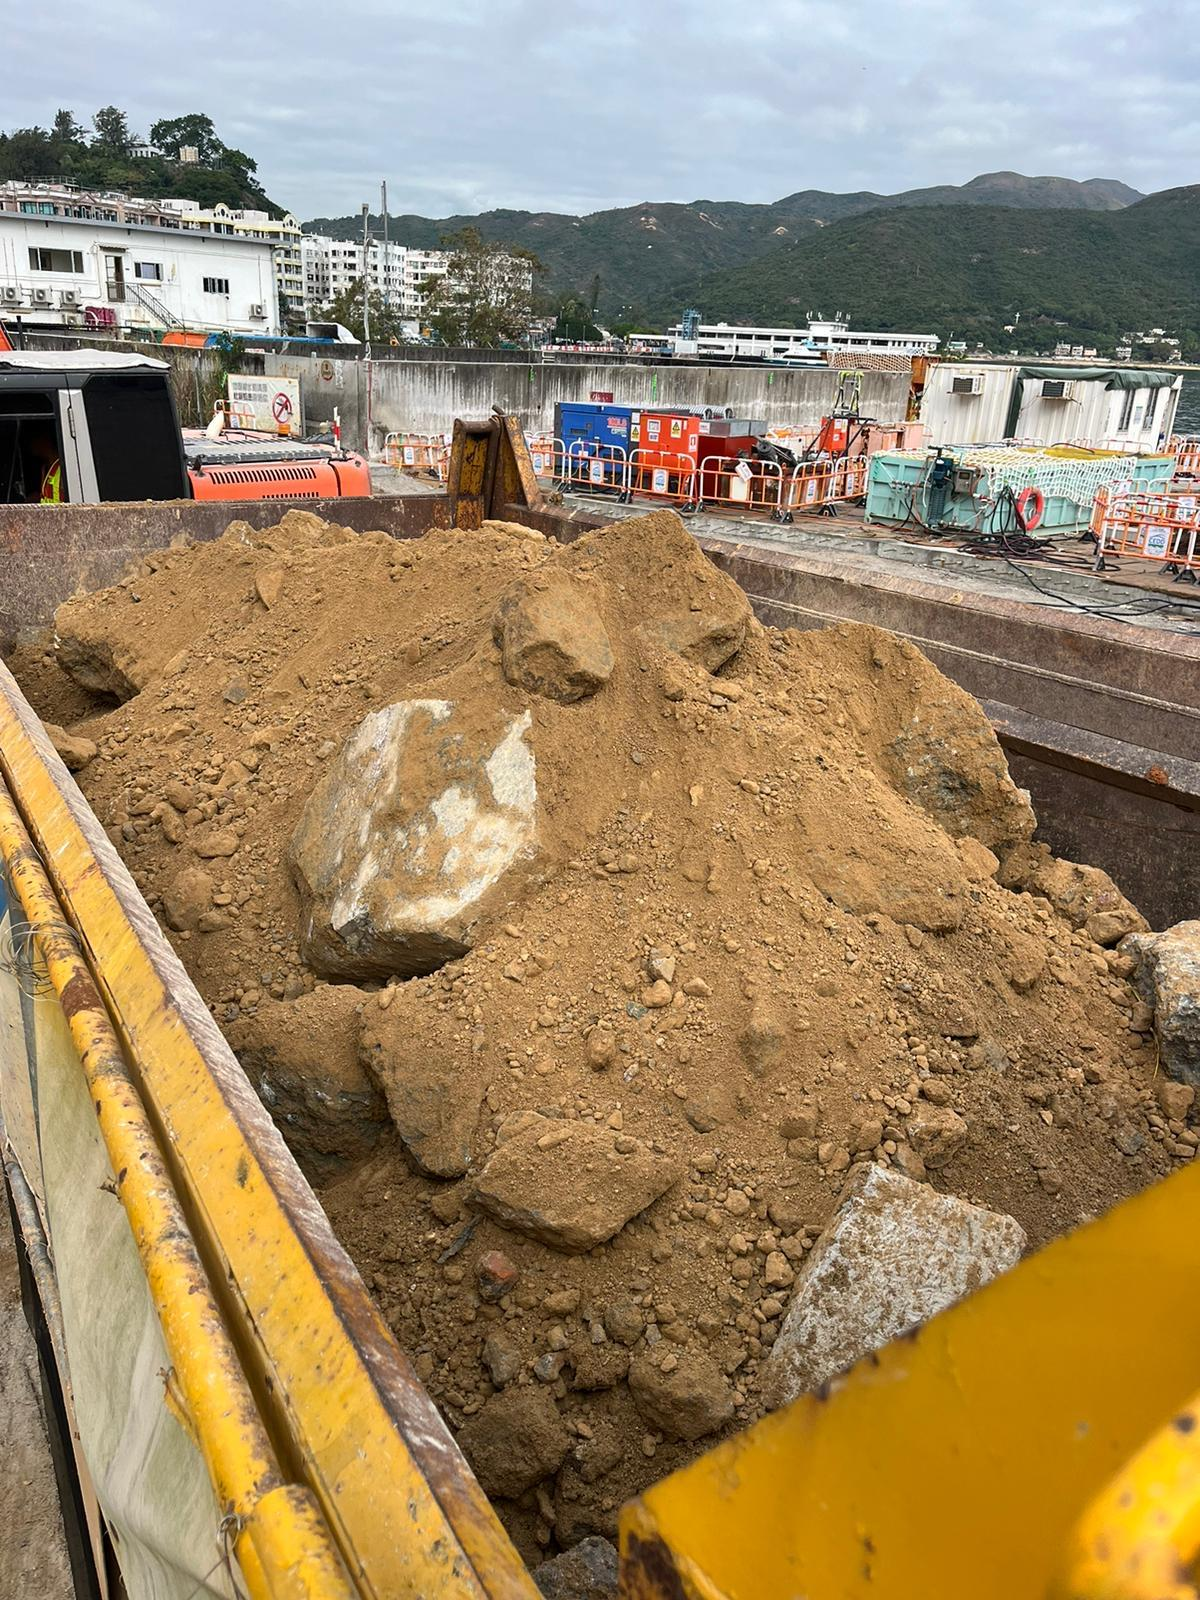dry: (18, 513, 1195, 1527)
